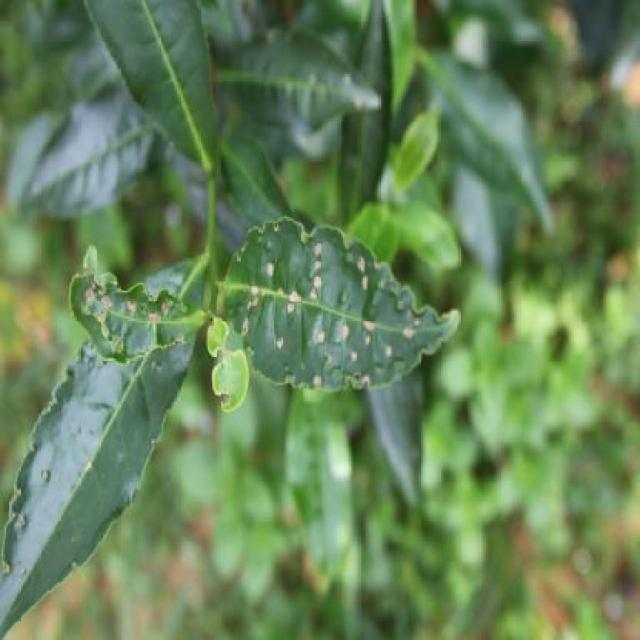Tea Mosquito bug infested leaf: (220, 211, 468, 394), (64, 246, 216, 371)
